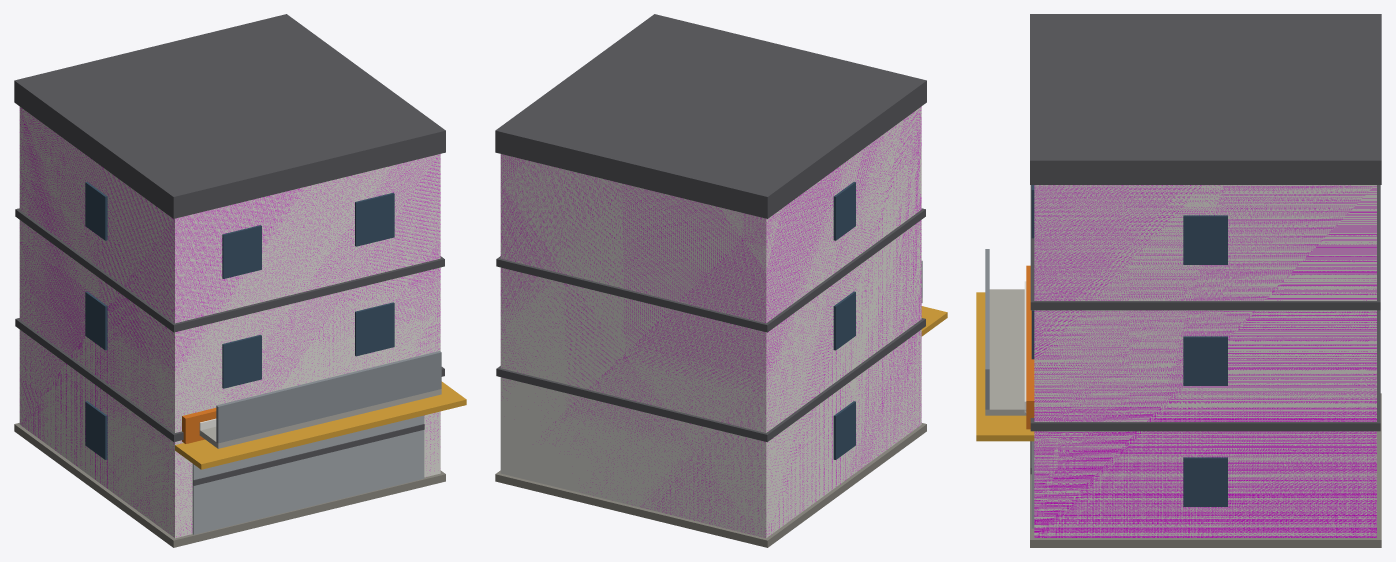
Rendered from MixedUse_3S_04.glb.
3 renders of one model, left to right at view 1: azimuth 30°, elevation 25°; view 2: azimuth 150°, elevation 25°; view 3: azimuth 270°, elevation 25°, orthographic. The views are drawn at different scales.
Visible parts, largest first — view 1: MixedUse_3S_04, MixedUse_3S_04_COL; view 2: MixedUse_3S_04, MixedUse_3S_04_COL; view 3: MixedUse_3S_04, MixedUse_3S_04_COL.
Part boxes in pixels (box(x1,y1,x2,y2)): MixedUse_3S_04: box(14, 14, 466, 547); MixedUse_3S_04_COL: box(19, 108, 440, 536); MixedUse_3S_04: box(495, 14, 947, 547); MixedUse_3S_04_COL: box(500, 107, 921, 537); MixedUse_3S_04: box(976, 14, 1381, 547); MixedUse_3S_04_COL: box(1034, 185, 1376, 537).
Bounding box in the file's own units: 7.8 × 9.6 × 9.1.
